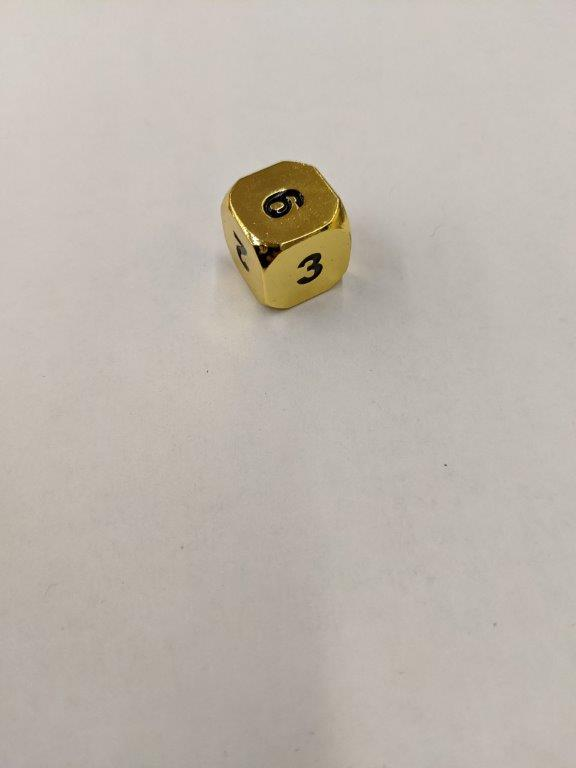d6-6: (223, 161, 352, 309)
